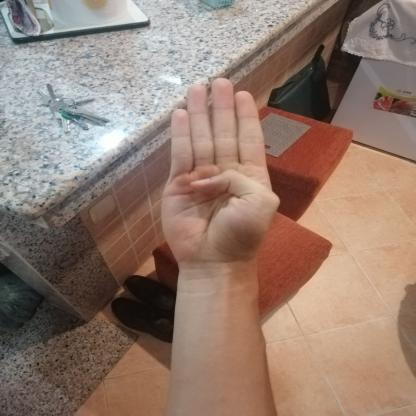KAAF: (143, 63, 294, 280)
